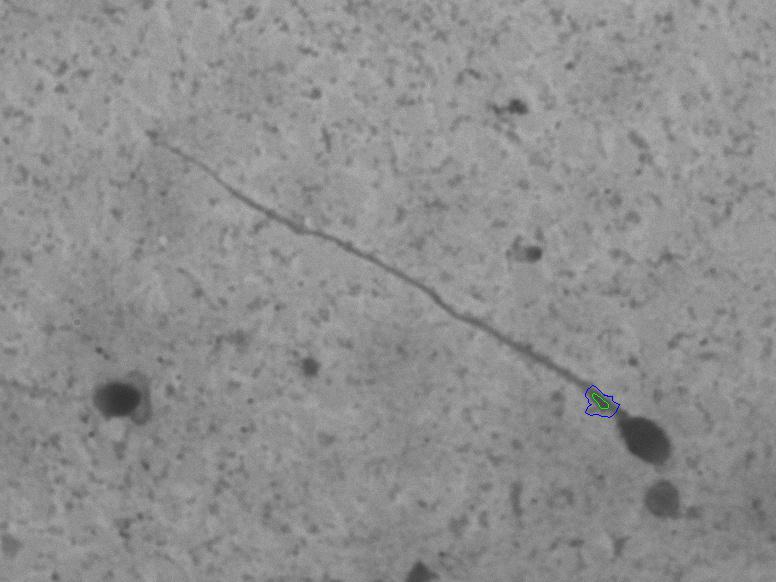Abnormal: (74, 315, 167, 460)
Normal: (190, 132, 697, 473)
